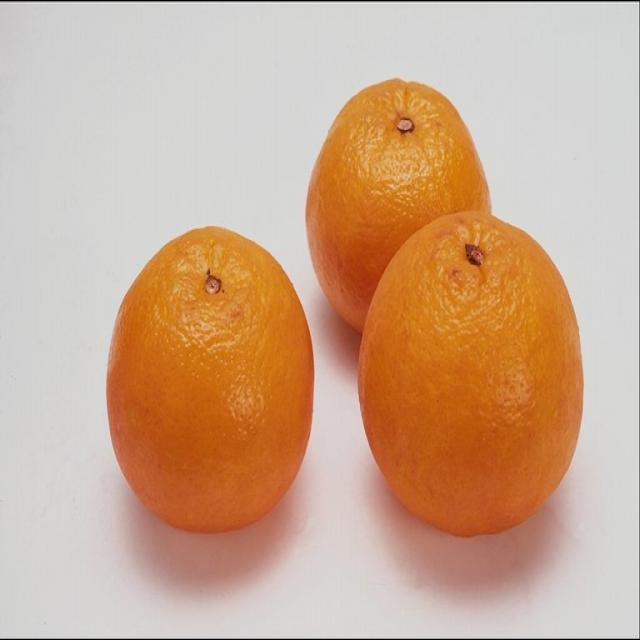Orange: (360, 212, 586, 534), (104, 226, 311, 536), (303, 77, 496, 335)
